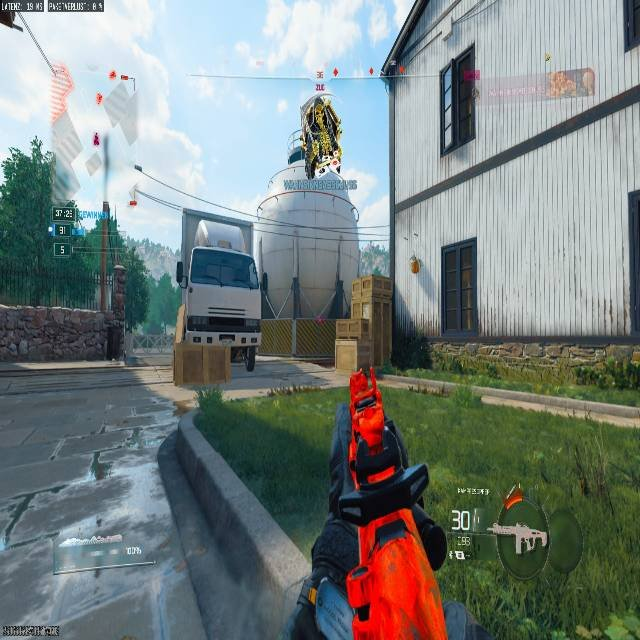player: (300, 89, 343, 176)
